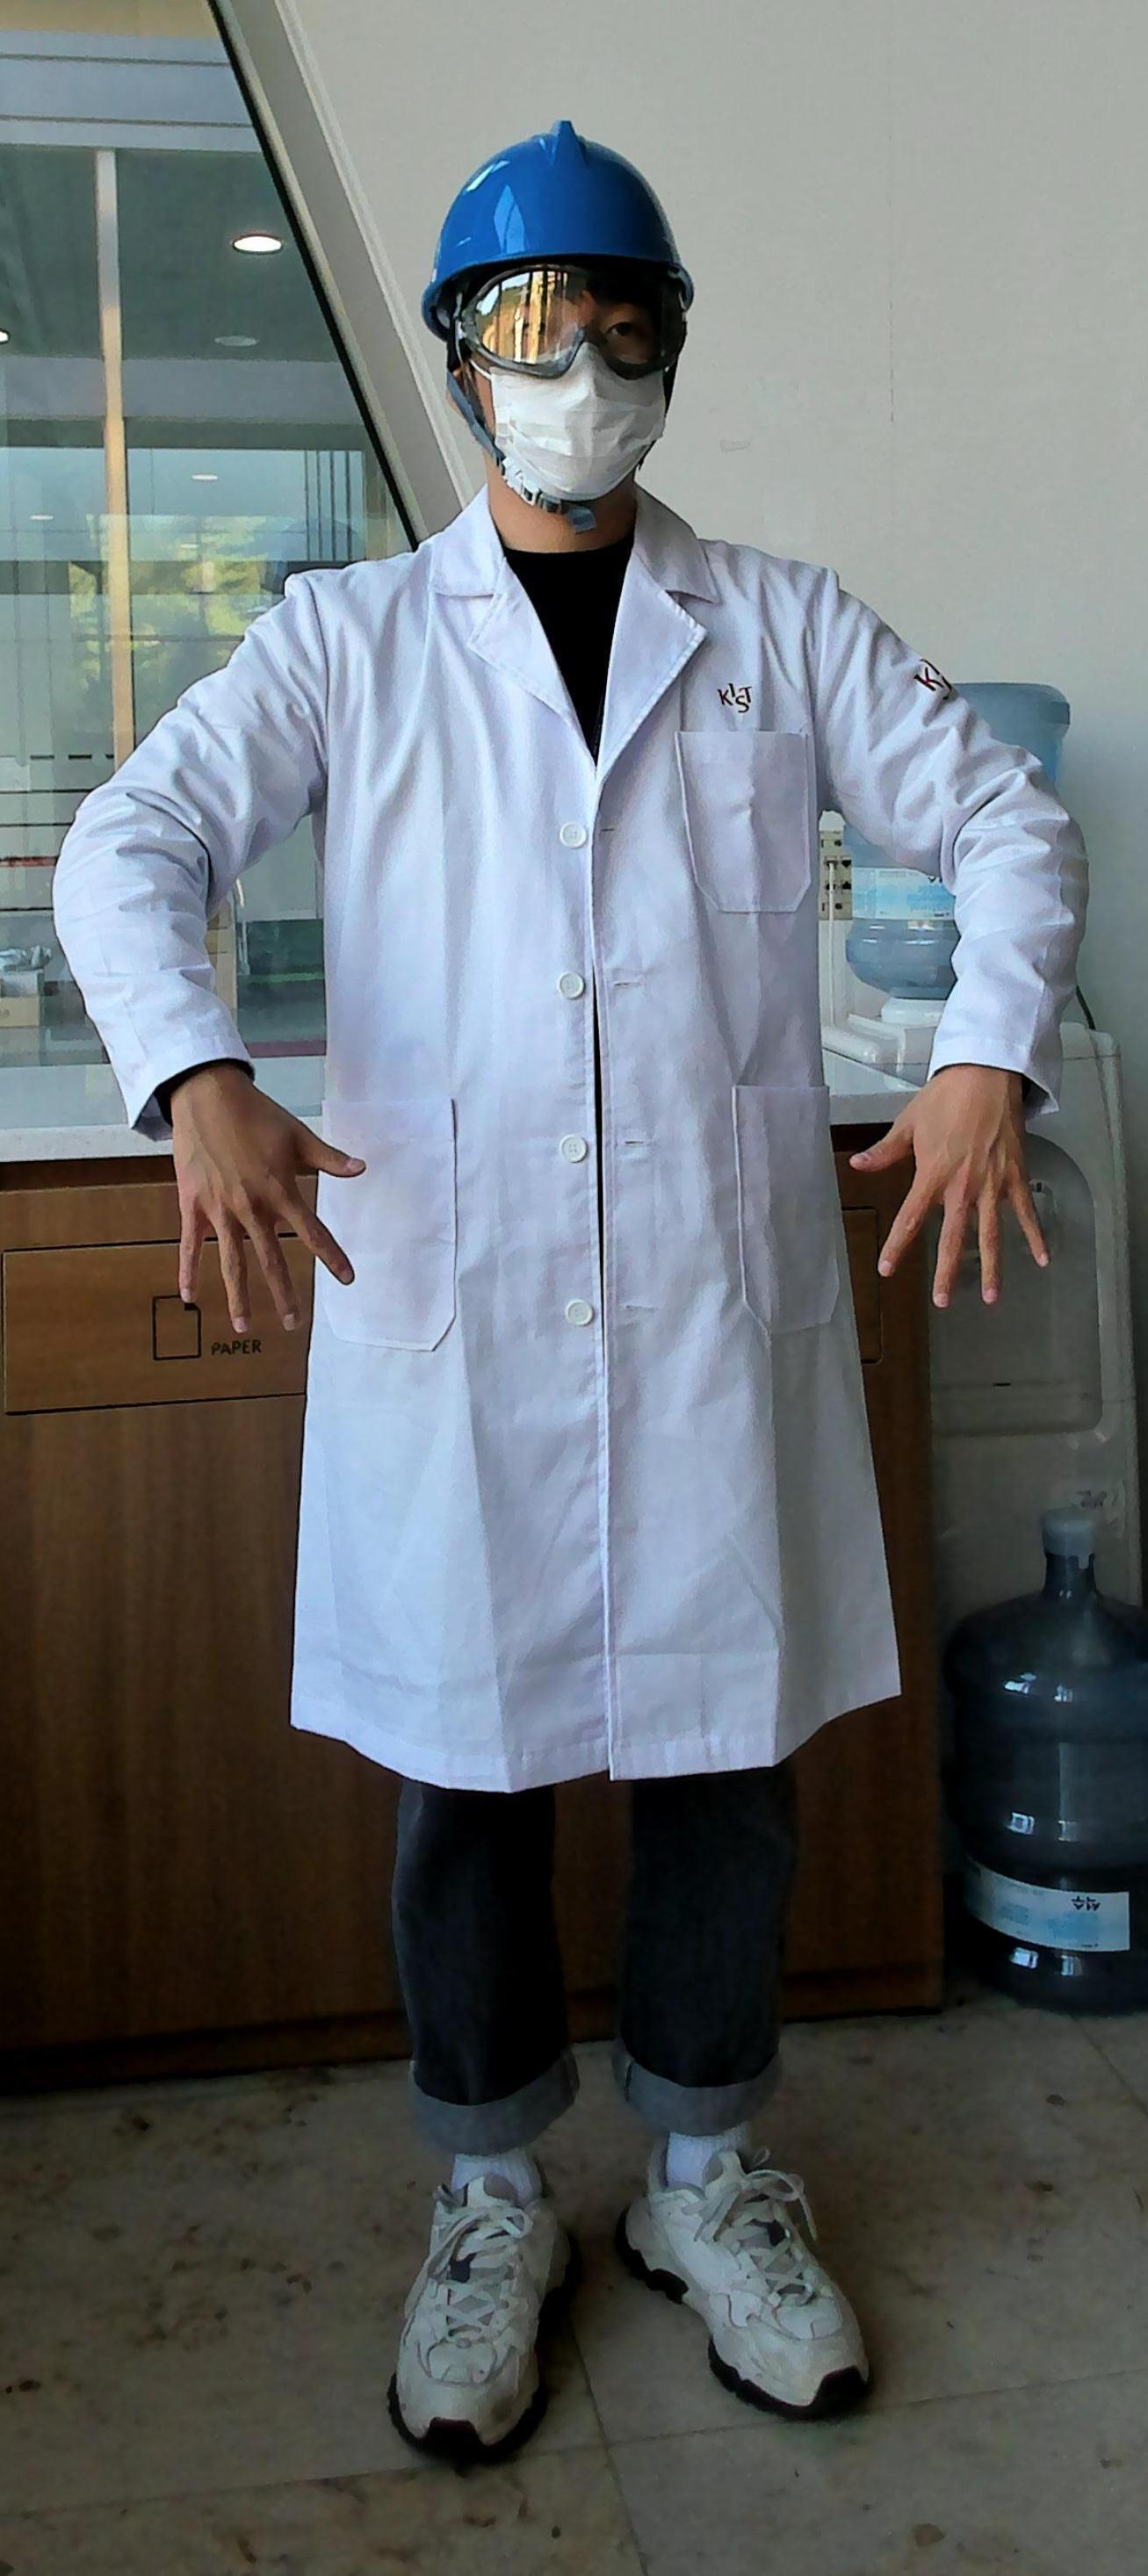lab_coat: (304, 563, 903, 1732)
